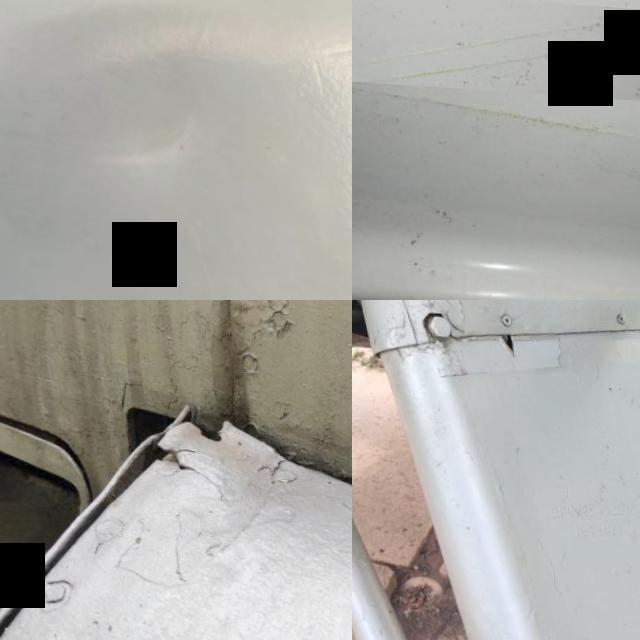Crack: (352, 14, 640, 71), (352, 84, 640, 141), (425, 41, 640, 103), (124, 422, 234, 500), (479, 319, 526, 366)
Dent: (37, 60, 234, 194)
